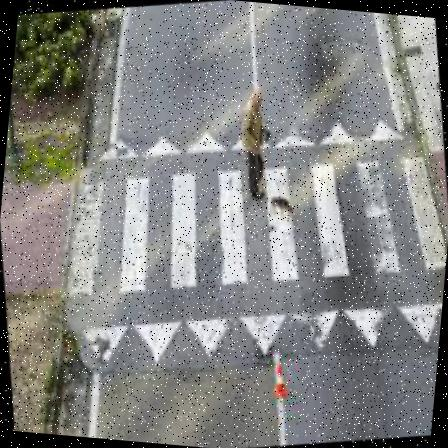silver: (229, 82, 288, 206)
